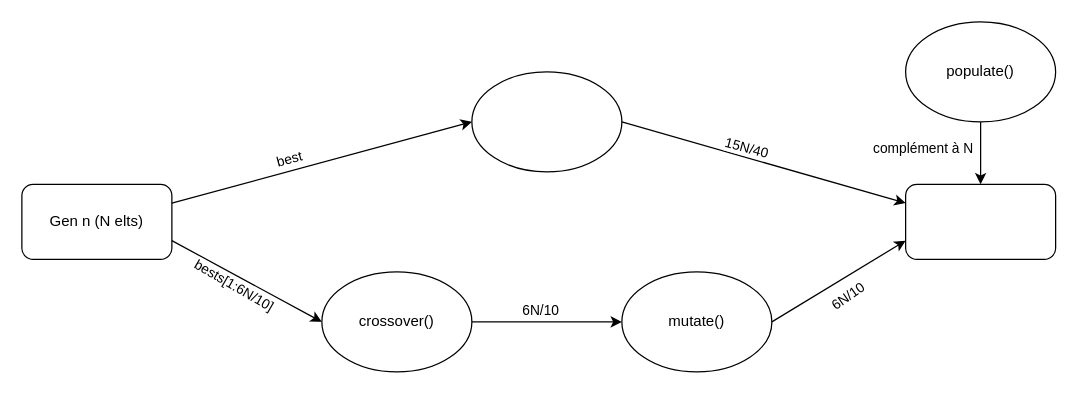
The diagram is 1078 pixels wide and 394 high, and some of its shapes have lost their labels. Each missing label, with the centre of its shape:
"Gen n+1 (N elts)" belongs at pixel 980 221.
"variations()" belongs at pixel 546 121.
